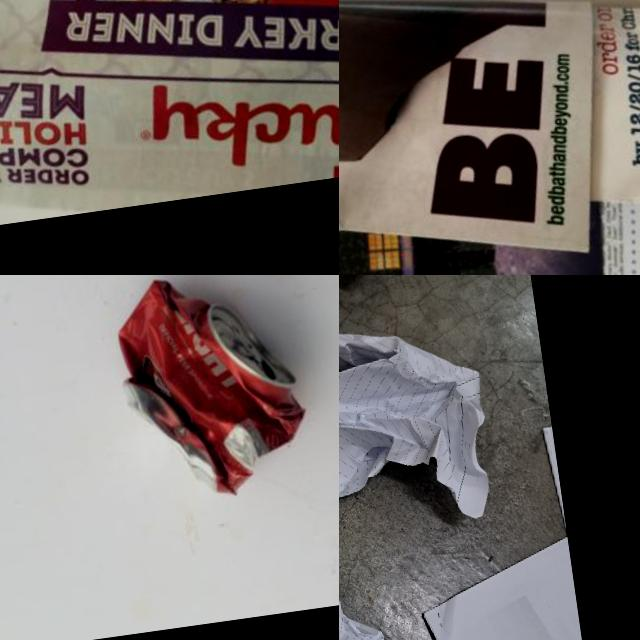lata: (107, 275, 317, 512)
papel: (339, 0, 640, 275), (0, 0, 339, 240), (404, 426, 604, 640), (339, 302, 504, 540)
